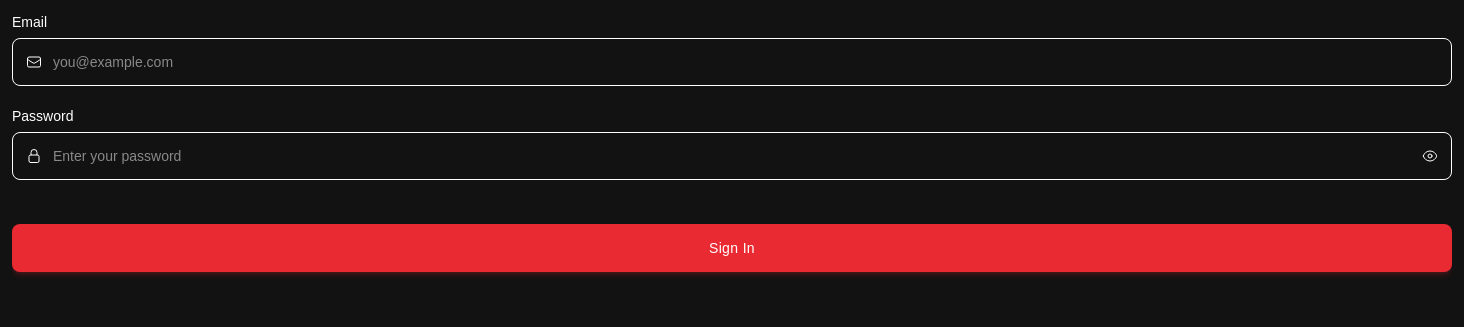
Test case: LoginForm › shows error when only email is provided
Type "a@b.com" into the field with placeholder "you@example.com" at (732, 62), box [12,38,1452,86]
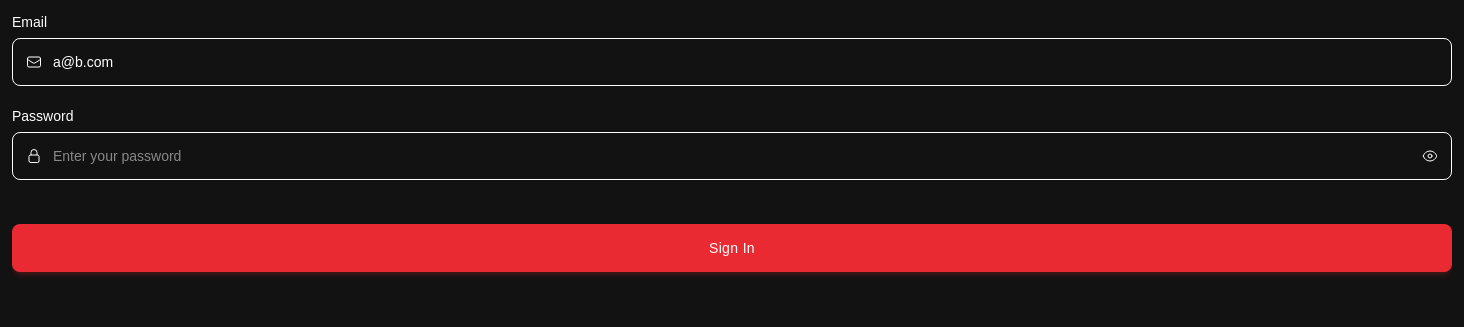
Submit the form with placeholder "you@example.com"
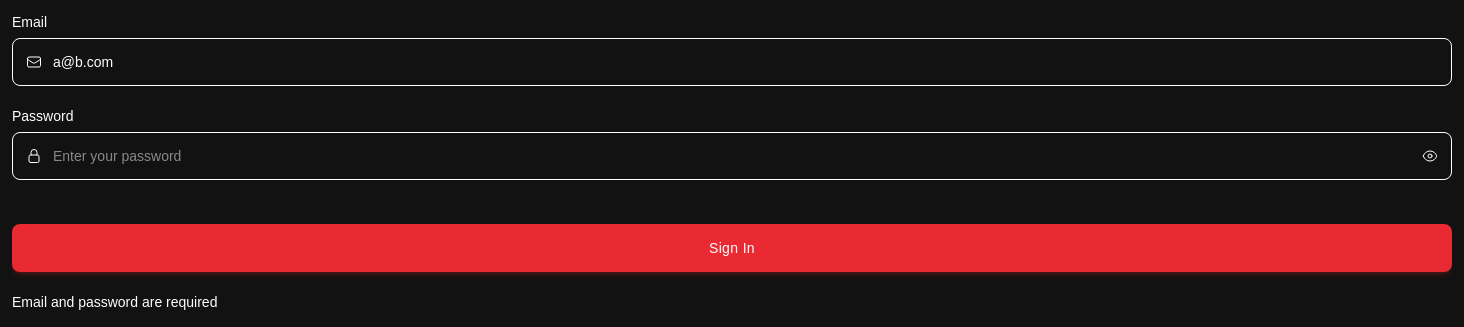
Expected: the message reads "Email and password are required", [12,294,218,310]
